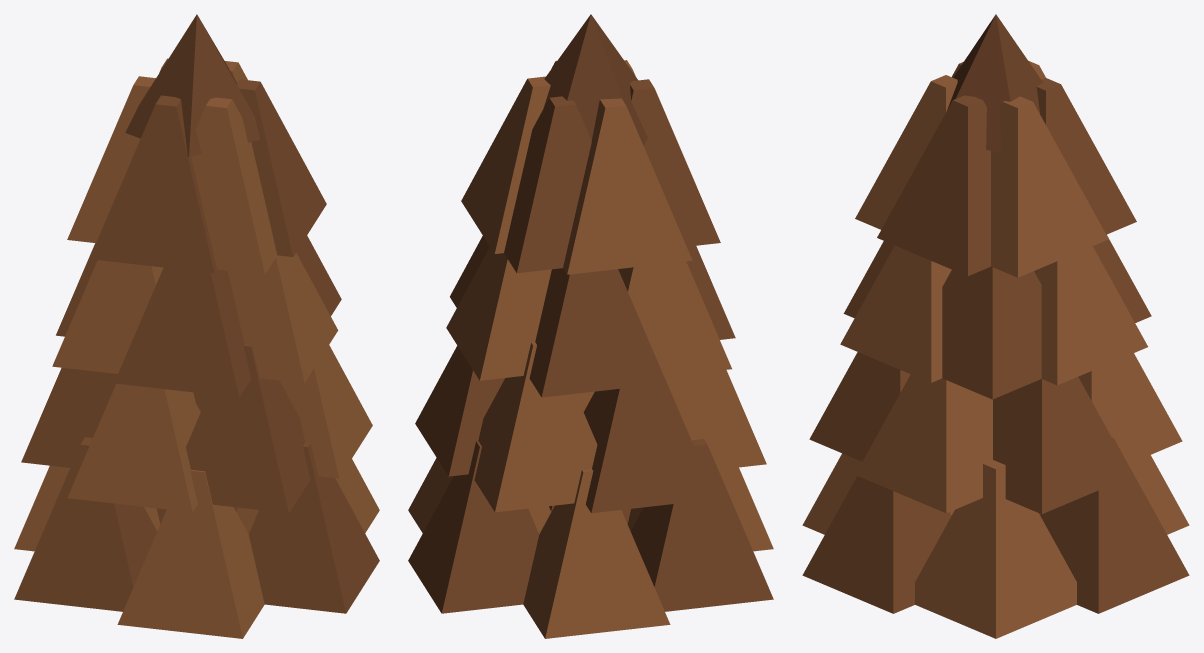
File: pinha.glb
The picture shows the model from 3 angles, left to right: view 1: azimuth 30°, elevation 25°; view 2: azimuth 150°, elevation 25°; view 3: azimuth 270°, elevation 25°; orthographic projection.
Parts seen in each view (by area): view 1: escama_0_4, escama_3_2, escama_1_4, escama_2_3, escama_0_5, escama_1_3, escama_0_3, escama_3_3, escama_2_4, escama_2_2, escama_3_4, ponta (+7 smaller); view 2: escama_0_2, escama_3_1, escama_2_1, escama_1_1, escama_0_1, escama_1_2, escama_0_3, escama_3_0, escama_2_0, escama_2_2, escama_3_5, escama_1_0 (+7 smaller); view 3: escama_0_0, escama_3_5, escama_1_0, escama_1_5, escama_3_4, escama_0_1, escama_0_5, escama_2_5, escama_2_0, escama_2_4, escama_1_1, escama_1_4 (+7 smaller).
Part boxes in pixels (x1,y1,x2,y2): escama_0_4: (117, 469, 264, 638); escama_3_2: (89, 95, 216, 273); escama_1_4: (186, 344, 310, 513); escama_2_3: (114, 267, 250, 397); escama_0_5: (248, 442, 379, 613); escama_1_3: (67, 383, 200, 512); escama_0_3: (14, 437, 157, 611); escama_3_3: (191, 97, 277, 274); escama_2_4: (228, 253, 338, 383); escama_2_2: (52, 260, 163, 373); escama_3_4: (237, 79, 326, 256); ponta: (125, 14, 259, 156); escama_0_2: (523, 469, 670, 638); escama_3_1: (563, 98, 692, 274); escama_2_1: (529, 268, 666, 397); escama_1_1: (474, 342, 597, 512); escama_0_1: (408, 441, 539, 613); escama_1_2: (583, 377, 716, 513); escama_0_3: (630, 439, 773, 611); escama_3_0: (504, 96, 591, 273); escama_2_0: (446, 247, 551, 380); escama_2_2: (618, 261, 731, 376); escama_3_5: (461, 76, 550, 253); escama_1_0: (415, 345, 504, 476); escama_0_0: (915, 460, 1076, 638); escama_3_5: (991, 96, 1108, 277); escama_1_0: (993, 377, 1132, 514); escama_1_5: (855, 374, 992, 513); escama_3_4: (877, 95, 990, 276); escama_0_1: (1040, 437, 1189, 613); escama_0_5: (802, 476, 951, 613); escama_2_5: (942, 266, 1041, 399); escama_2_0: (1034, 246, 1147, 385); escama_2_4: (840, 245, 951, 382); escama_1_1: (1078, 353, 1182, 463); escama_1_4: (809, 352, 910, 461).
Bounding box in the file's own units: 0.276 × 0.39 × 0.2551.
